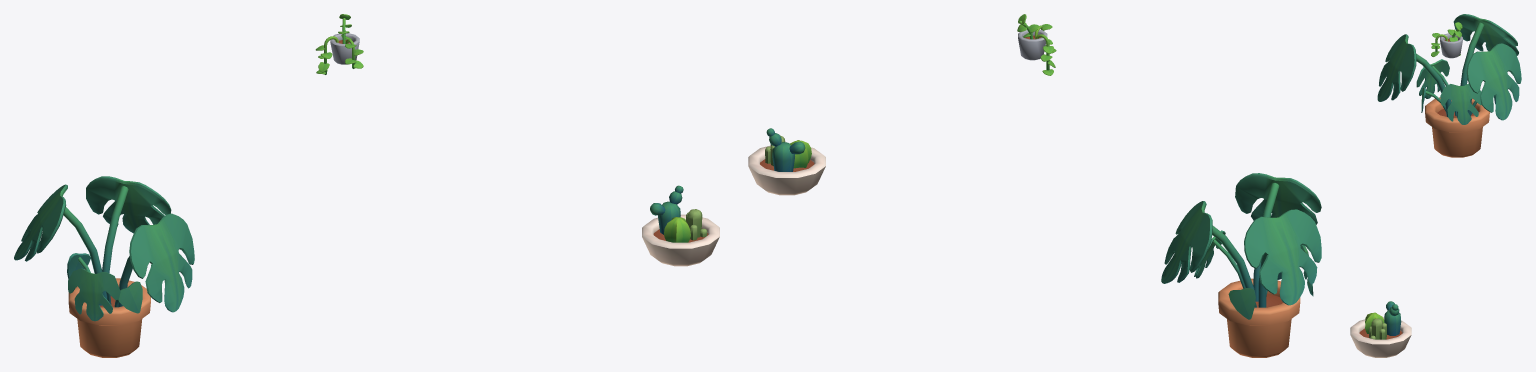
The model's file is desk-plants.glb.
3 views of the same model, side by side, from view 1: azimuth 30°, elevation 25°; view 2: azimuth 150°, elevation 25°; view 3: azimuth 270°, elevation 25° (orthographic). The views are drawn at different scales.
Parts seen in each view (by area): view 1: plant_monstera, plant_cactus, plant_pothos; view 2: plant_monstera, plant_cactus, plant_pothos; view 3: plant_monstera, plant_cactus, plant_pothos.
Part boxes in pixels (x1,y1,x2,y2): plant_monstera: [14, 176, 194, 357]; plant_cactus: [642, 185, 719, 266]; plant_pothos: [315, 14, 363, 74]; plant_monstera: [1161, 173, 1321, 357]; plant_cactus: [748, 128, 825, 195]; plant_pothos: [1017, 14, 1056, 75]; plant_monstera: [1377, 14, 1521, 157]; plant_cactus: [1350, 301, 1411, 357]; plant_pothos: [1431, 22, 1462, 58].
Size of the model in its own units: 4.3 by 1.81 by 1.3.
Materials: 3 (3 with a texture image).
